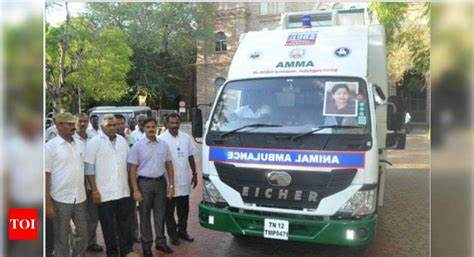ambulance: (194, 11, 404, 253)
